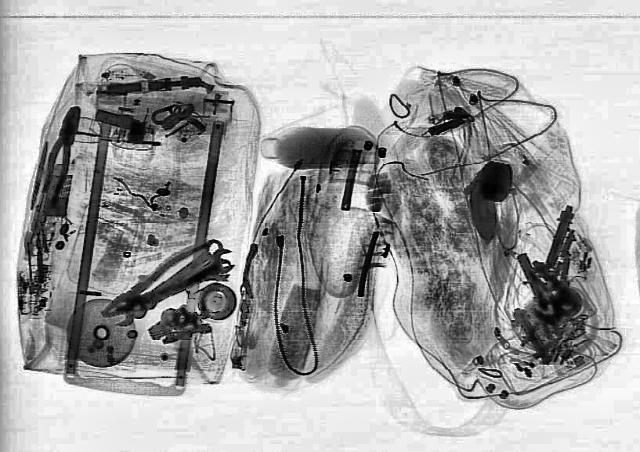Pliers: (88, 240, 230, 326), (31, 104, 87, 204)
Wrench: (100, 234, 226, 328)
